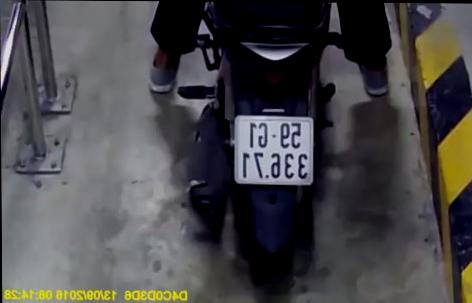License_Plate: (226, 113, 317, 188)
